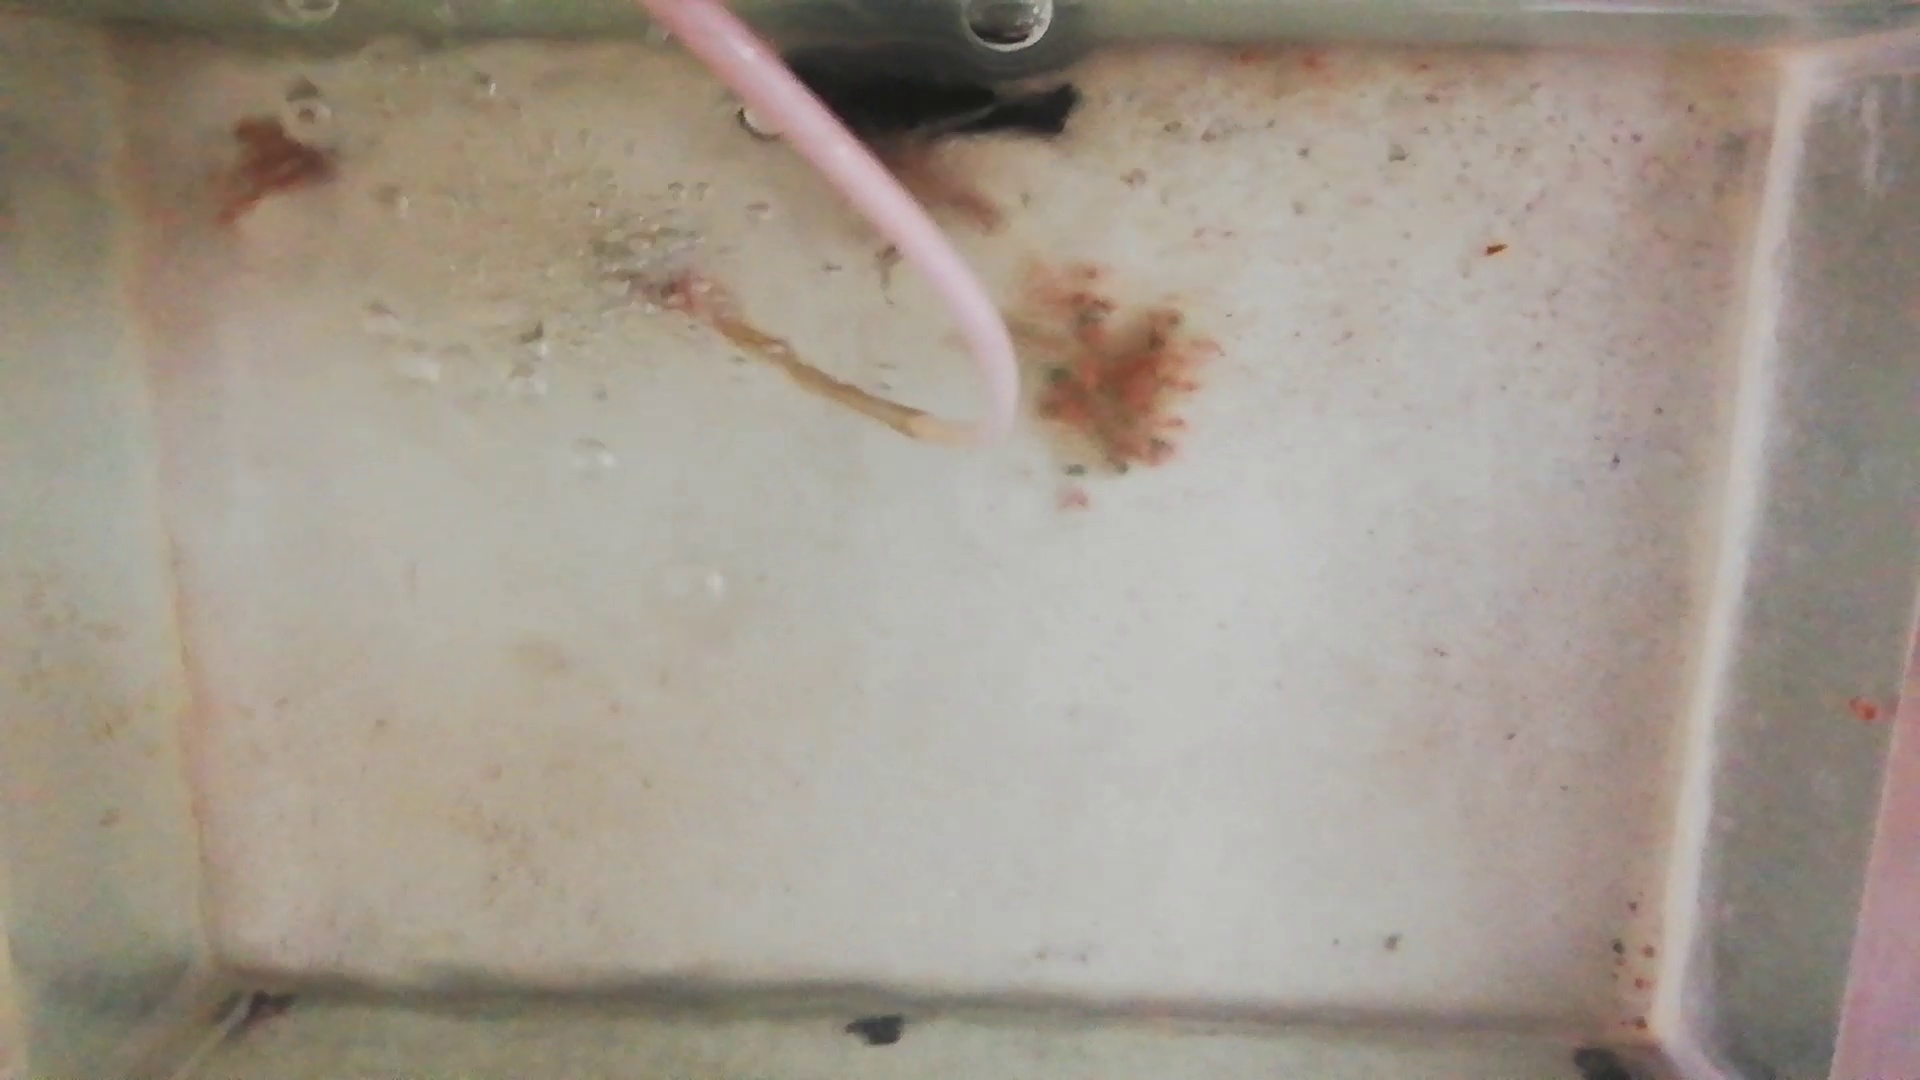fish: (220, 92, 340, 224), (884, 138, 1001, 229)
